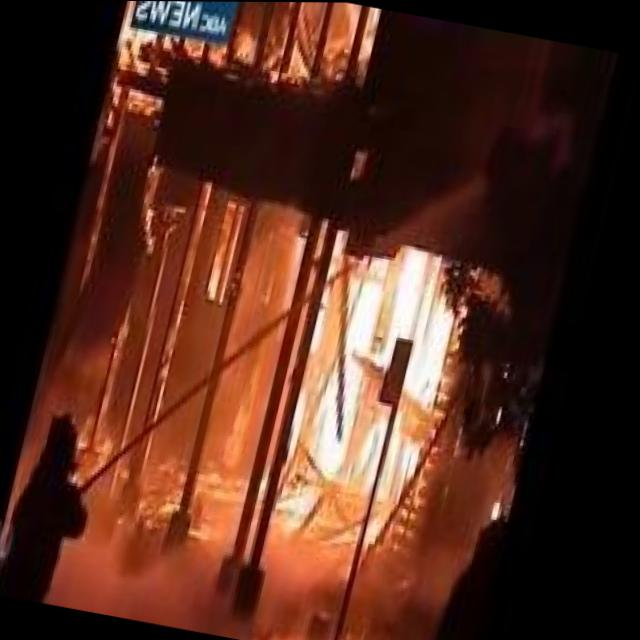fire: (238, 224, 482, 584)
